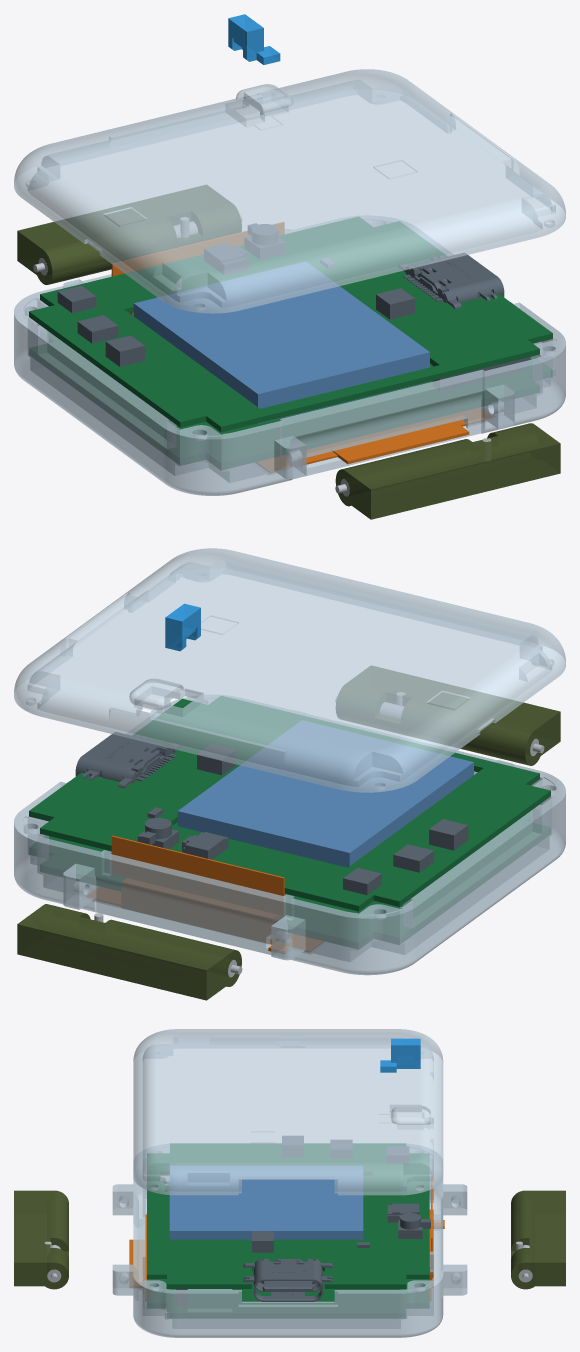
Rendered from exploded.glb.
The picture shows the model from 3 angles, top to bottom: view 1: azimuth 30°, elevation 25°; view 2: azimuth 150°, elevation 25°; view 3: azimuth 270°, elevation 25°; orthographic projection. The views are drawn at different scales.
Visible parts, largest first — view 1: cover, tray, MCU_board, battery_302025_max, D17_board, south_woven_strap_loop, north_woven_strap_loop, MCU_USB_J400, R14_FPC_south_AB, FPC_ANT_2G4, R14_FPC_box, switch_plunger (+6 smaller); view 2: cover, tray, MCU_board, battery_302025_max, south_woven_strap_loop, north_woven_strap_loop, D17_board, FPC_ANT_2G4, R14_FPC_north_tails, MCU_USB_J400, switch_plunger, MCU_U12 (+6 smaller); view 3: cover, tray, MCU_board, battery_302025_max, D17_board, south_woven_strap_loop, north_woven_strap_loop, MCU_USB_J400, switch_plunger, R14_FPC_south_AB, MCU_U17, MCU_SW300 (+4 smaller).
Part boxes in pixels (x1,y1,x2,y2): cover: (14,69,565,313); tray: (14,215,565,495); MCU_board: (29,216,552,432); battery_302025_max: (133,261,429,423); D17_board: (29,332,552,469); south_woven_strap_loop: (335,423,560,519); north_woven_strap_loop: (17,185,241,284); MCU_USB_J400: (398,253,504,309); R14_FPC_south_AB: (331,419,469,464); FPC_ANT_2G4: (111,222,284,276); R14_FPC_box: (256,408,492,472); switch_plunger: (228,14,280,64); cover: (14,548,565,792); tray: (14,695,565,975); MCU_board: (29,696,550,911); battery_302025_max: (177,720,473,867); south_woven_strap_loop: (336,665,560,765); north_woven_strap_loop: (17,904,241,1000); D17_board: (29,811,550,948); FPC_ANT_2G4: (111,835,284,915); R14_FPC_north_tails: (122,878,281,944); MCU_USB_J400: (75,732,181,788); switch_plunger: (165,603,200,651); MCU_U12: (429,819,468,850); cover: (133,1029,443,1195); tray: (112,1144,467,1337); MCU_board: (147,1143,429,1288); battery_302025_max: (169,1166,363,1239); D17_board: (147,1176,429,1317); south_woven_strap_loop: (14,1190,68,1289); north_woven_strap_loop: (511,1190,565,1289); MCU_USB_J400: (243,1258,332,1301); switch_plunger: (380,1038,420,1072); R14_FPC_south_AB: (129,1239,146,1287); MCU_U17: (252,1231,273,1252); MCU_SW300: (387,1203,419,1222).
Size of the model in its own units: 0.046 by 0.0336 by 0.0712.
